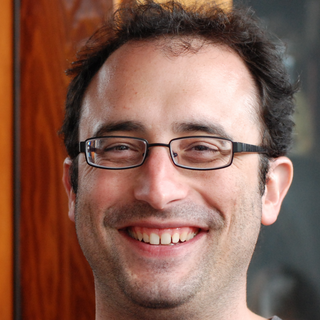eye: (176, 138, 226, 161), (96, 138, 143, 162)
